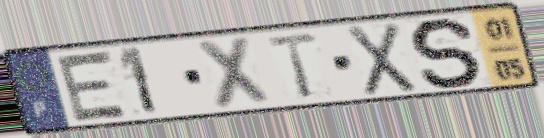1: (117, 44, 161, 119)
E: (53, 48, 133, 125)
S: (407, 15, 486, 90)
T: (266, 30, 322, 101)
X: (193, 33, 274, 112), (343, 20, 419, 99)
